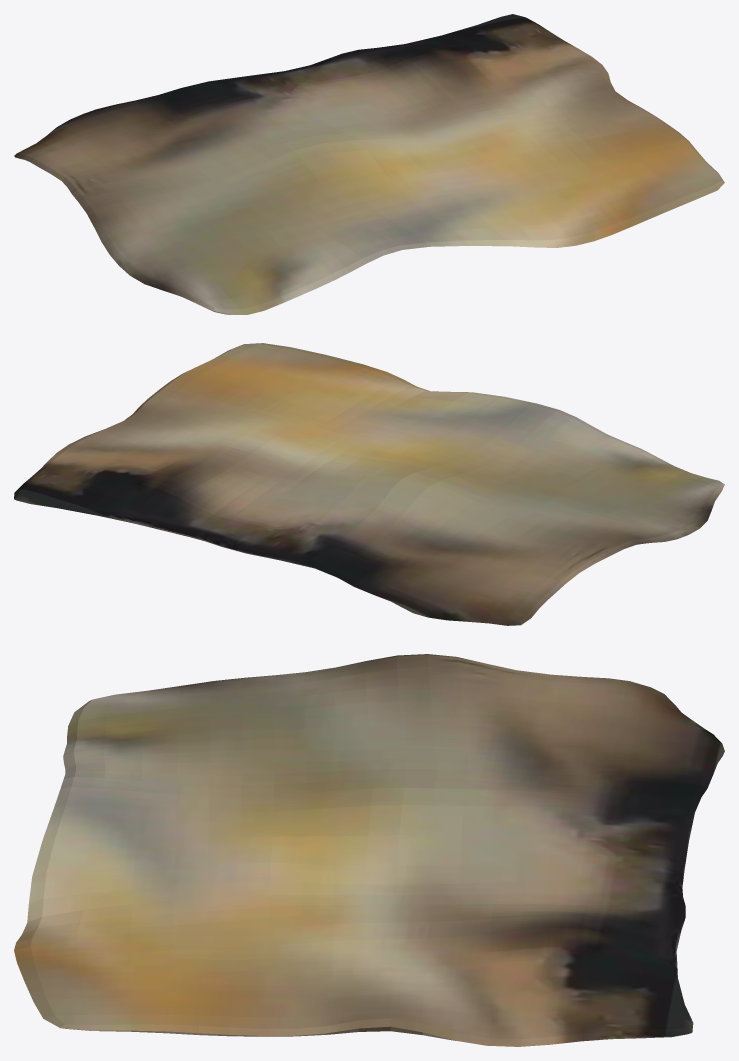
Rendered from Page.glb.
The picture shows the model from 3 angles, top to bottom: view 1: azimuth 30°, elevation 25°; view 2: azimuth 150°, elevation 25°; view 3: azimuth 270°, elevation 25°; orthographic projection. The views are drawn at different scales.
Visible parts, largest first — view 1: Plane; view 2: Plane; view 3: Plane.
Boxes of the visible parts, bbox=[...] form: Plane: bbox=[14, 14, 724, 314]; Plane: bbox=[14, 343, 724, 625]; Plane: bbox=[14, 654, 724, 1046].
Size of the model in its own units: 0.9052 by 0.0624 by 0.7041.
1 material, 1 textured.
